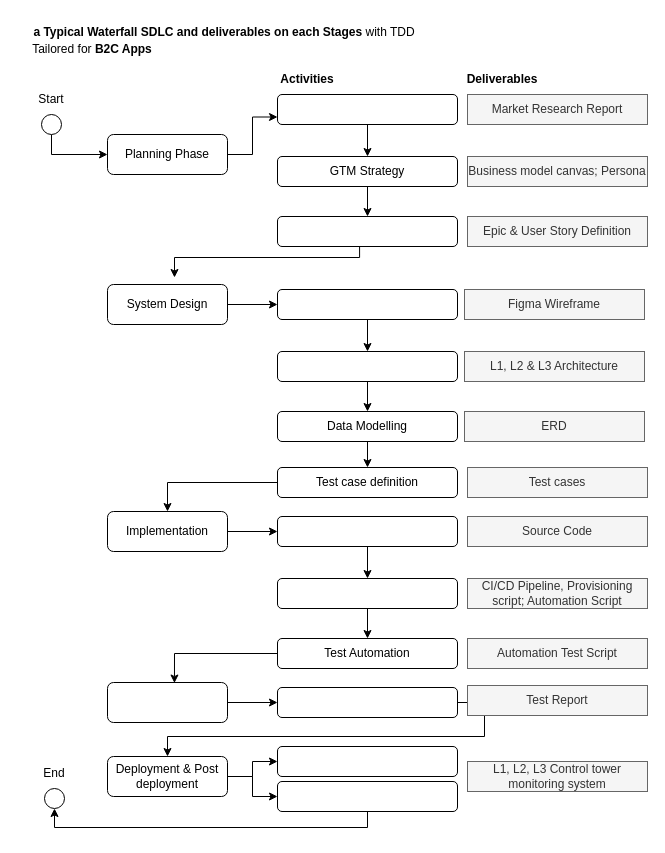
The diagram is 665 pixels wide and 853 high, and some of its shapes have lost their labels. The shapes that lost their labels are listed below. From the top down, each one's box as (x1, y1, x2, y2) in pixels, then its label:
(276, 94, 458, 124): Market Research
(276, 216, 458, 246): Requirement Gathering
(276, 288, 458, 320): UI/UX Design
(276, 350, 458, 382): System Architecture
(276, 516, 458, 546): Coding
(276, 578, 458, 608): Devops
(106, 682, 228, 722): Testing
(276, 686, 458, 718): Manual & Automation Testing
(276, 746, 458, 776): Deployment
(276, 780, 458, 812): Monitoring
